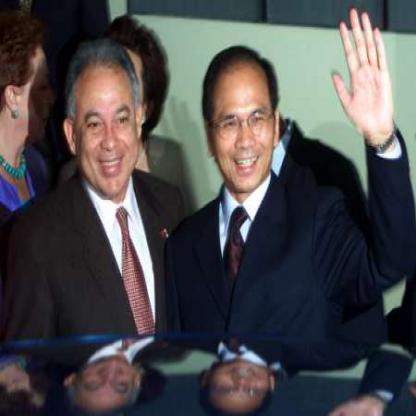face: (74, 45, 140, 197), (213, 50, 276, 193)
